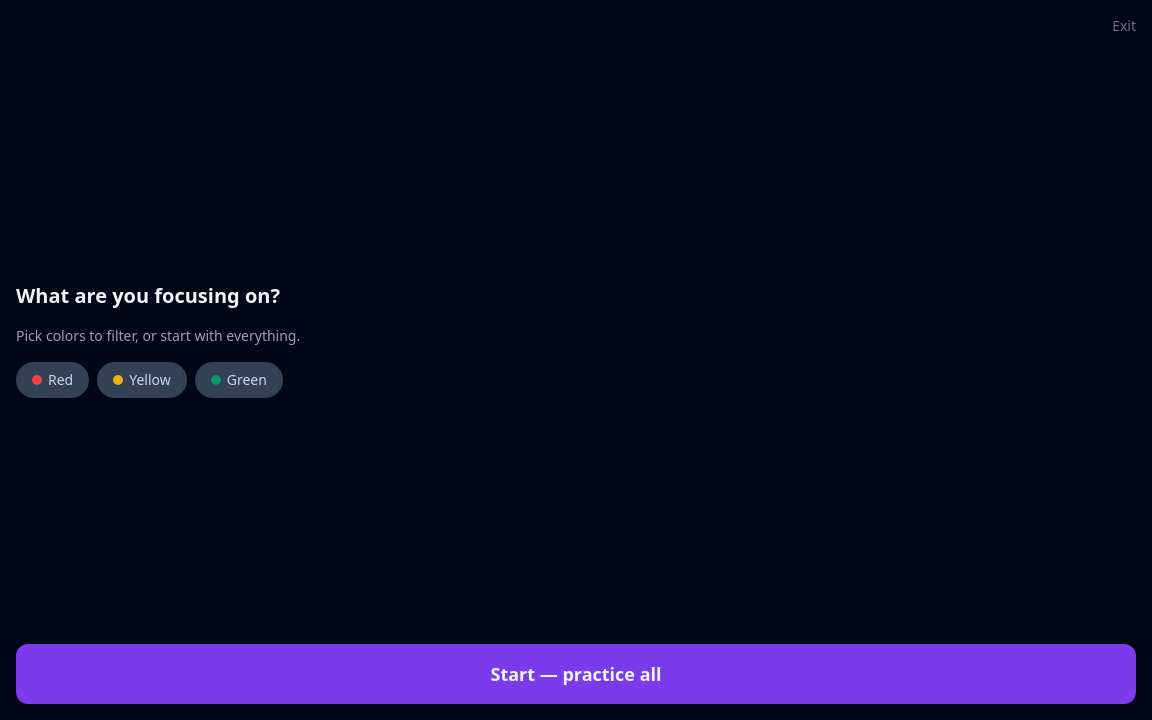
Test: archived items › never draws archived items
What coordinates should you click on to do the following:
click the button "Start — practice all"
I would click on:
 (576, 674)
Its box is top-left (16, 644), bottom-right (1136, 704).
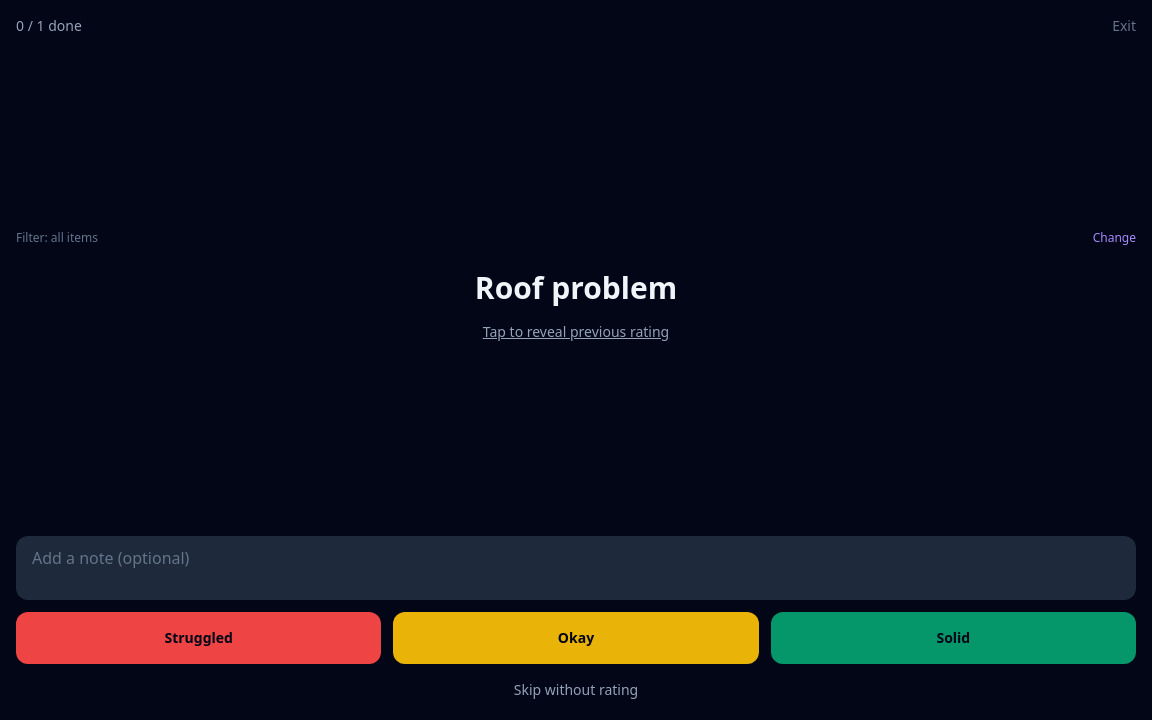
Check: the text "Roof problem" is shown, box top-left (475, 270), bottom-right (677, 306)
Check: the text "0 / 1 done" is shown, box top-left (16, 16), bottom-right (82, 36)
